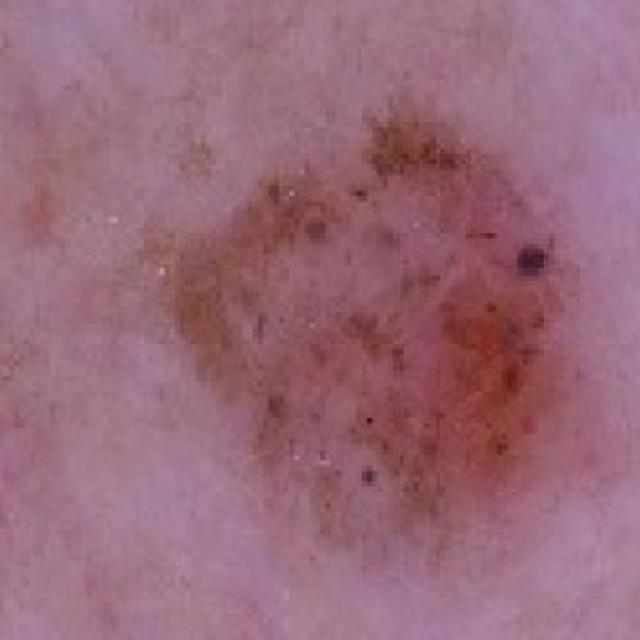BCC: (107, 0, 639, 634)
